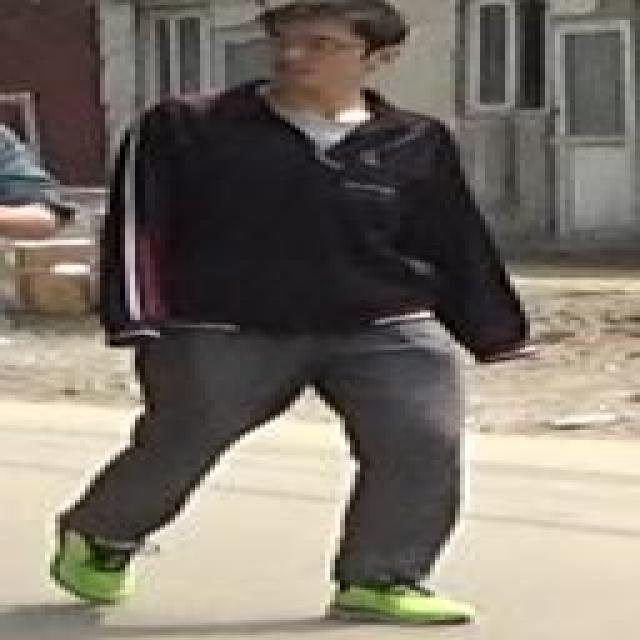adult: (82, 2, 524, 612)
